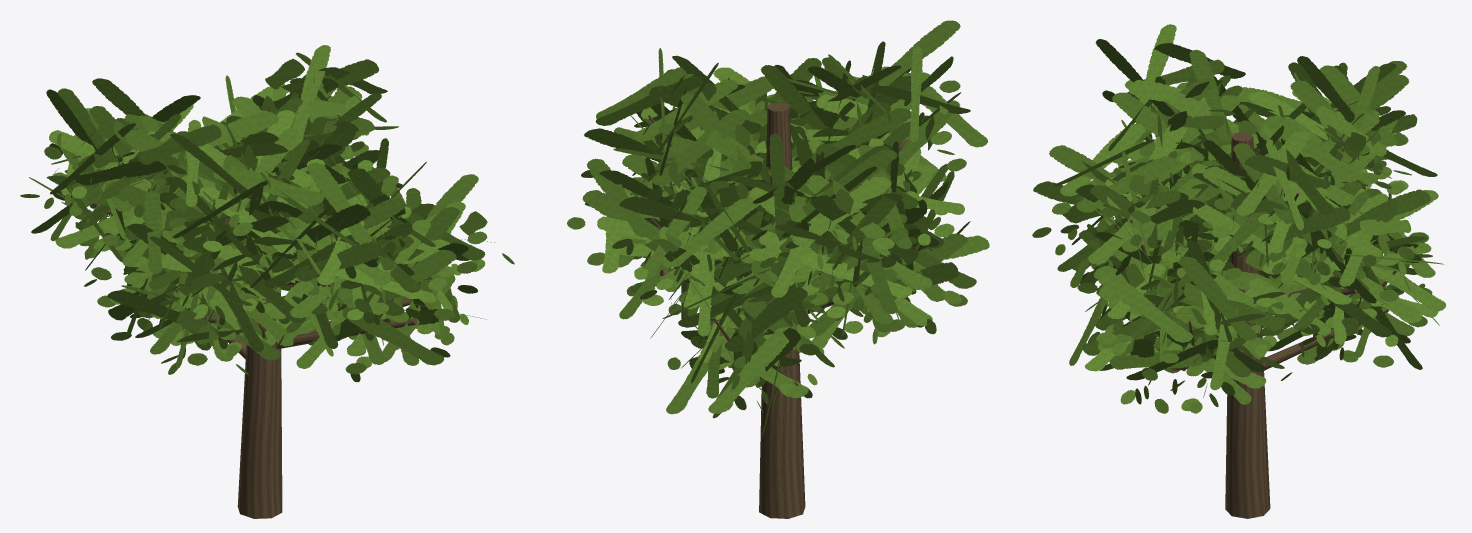
3 renders of one model, left to right at view 1: azimuth 30°, elevation 25°; view 2: azimuth 150°, elevation 25°; view 3: azimuth 270°, elevation 25°, orthographic. The views are drawn at different scales.
Visible parts, largest first — view 1: oak-leaf, oak-bark; view 2: oak-leaf, oak-bark; view 3: oak-leaf, oak-bark.
Boxes of the visible parts, x1,y1,x2,y2 form: oak-leaf: (20, 45, 514, 382); oak-bark: (91, 92, 417, 518); oak-leaf: (567, 20, 989, 436); oak-bark: (648, 102, 908, 518); oak-leaf: (1032, 24, 1446, 413); oak-bark: (1113, 132, 1404, 518).
Bounding box in the file's own units: 8.03 × 9.03 × 7.99.
2 materials, 2 textured.
